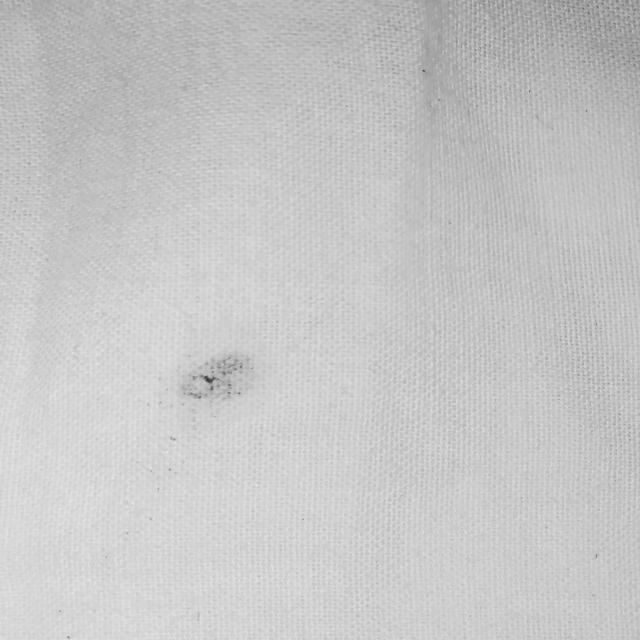Stain: (177, 352, 254, 430)
